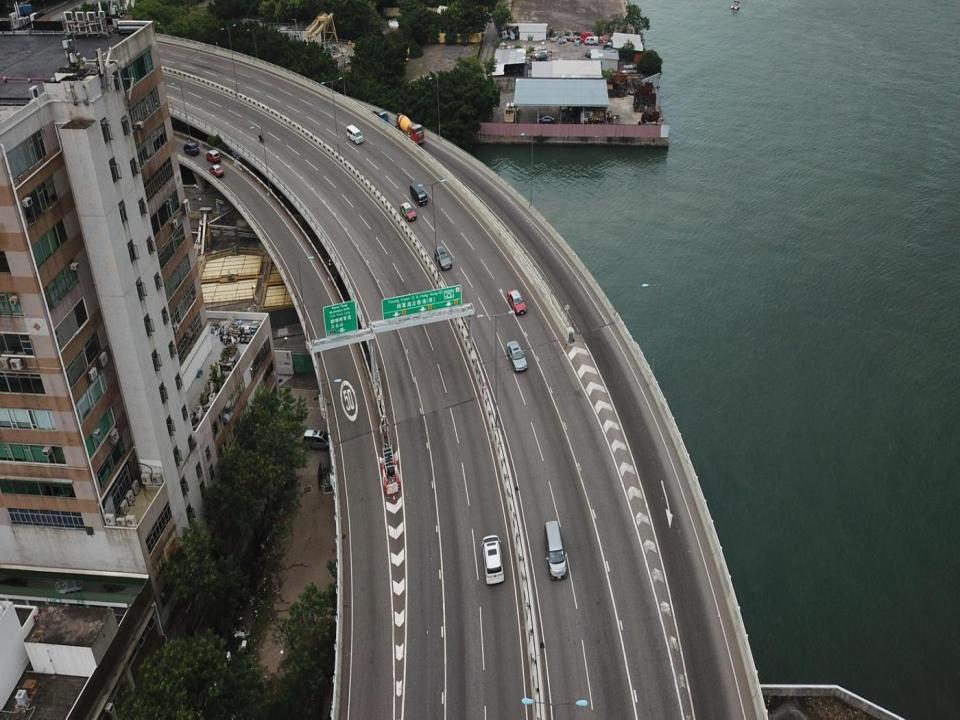car: (542, 520, 569, 582), (480, 534, 506, 584), (505, 339, 529, 374), (504, 288, 528, 317), (408, 183, 430, 207), (434, 245, 454, 271), (398, 201, 417, 222), (182, 140, 199, 158), (208, 164, 226, 179), (537, 113, 557, 126), (206, 149, 220, 163)
truck: (393, 112, 426, 146), (366, 107, 388, 127), (346, 122, 364, 146)
van: (303, 428, 331, 447), (584, 34, 599, 47)
